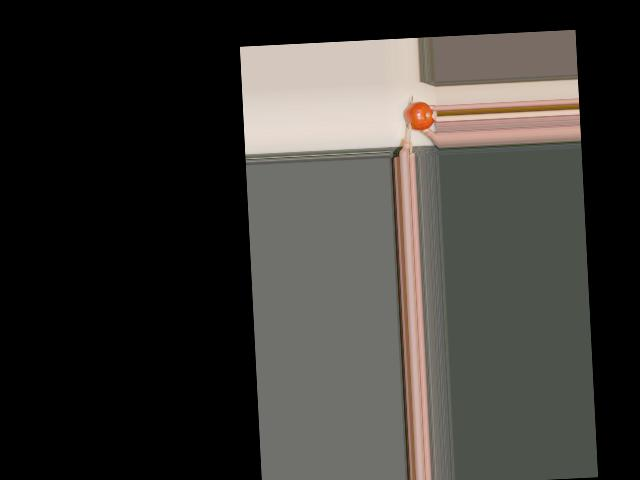tomato: (403, 100, 434, 130)
